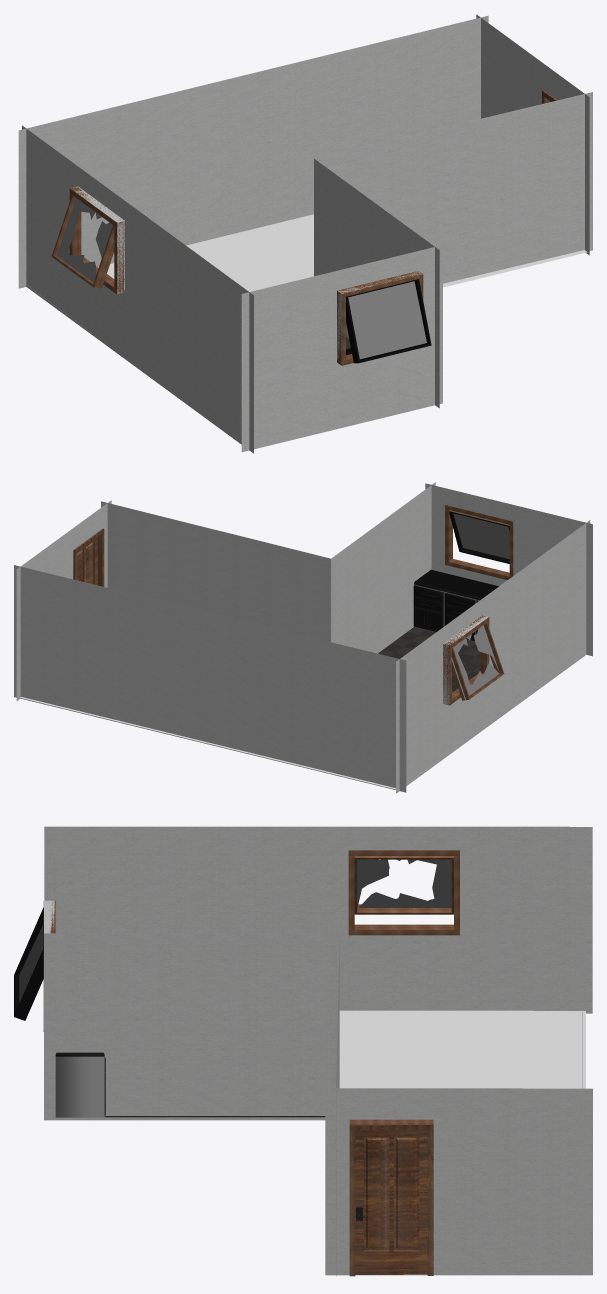
Rendered from Bartender - Room 1.FBX.
The picture shows the model from 3 angles, top to bottom: view 1: azimuth 30°, elevation 25°; view 2: azimuth 150°, elevation 25°; view 3: azimuth 270°, elevation 25°; orthographic projection. The views are drawn at different scales.
Visible parts, largest first — view 1: Wall001, Kitchen window, Plane001, Living window, Object; view 2: Wall001, Kitchen window, Kitchen Unit, Living window, Kitchen Flooring, Front Door, Object, Plane001; view 3: Wall001, Plane001, Front Door, Living window, Kitchen Unit, Object, Kitchen window.
Part boxes in pixels (x1,y1,x2,y2): Wall001: (18, 14, 592, 453); Kitchen window: (337, 271, 431, 365); Plane001: (30, 214, 587, 291); Living window: (51, 186, 124, 293); Object: (57, 198, 112, 282); Wall001: (14, 482, 592, 793); Kitchen window: (445, 505, 513, 579); Kitchen Unit: (413, 569, 498, 641); Living window: (443, 615, 504, 705); Kitchen Flooring: (378, 627, 479, 692); Front Door: (73, 528, 104, 586); Object: (451, 625, 499, 699); Plane001: (20, 697, 395, 789); Wall001: (44, 826, 592, 1276); Plane001: (339, 1010, 585, 1088); Front Door: (349, 1119, 433, 1276); Living window: (348, 850, 459, 935); Kitchen Unit: (55, 1052, 105, 1117); Object: (357, 859, 451, 907); Kitchen window: (14, 900, 55, 1031).
Size of the model in its own units: 315 by 96 by 270.
11 materials, 3 textured.
